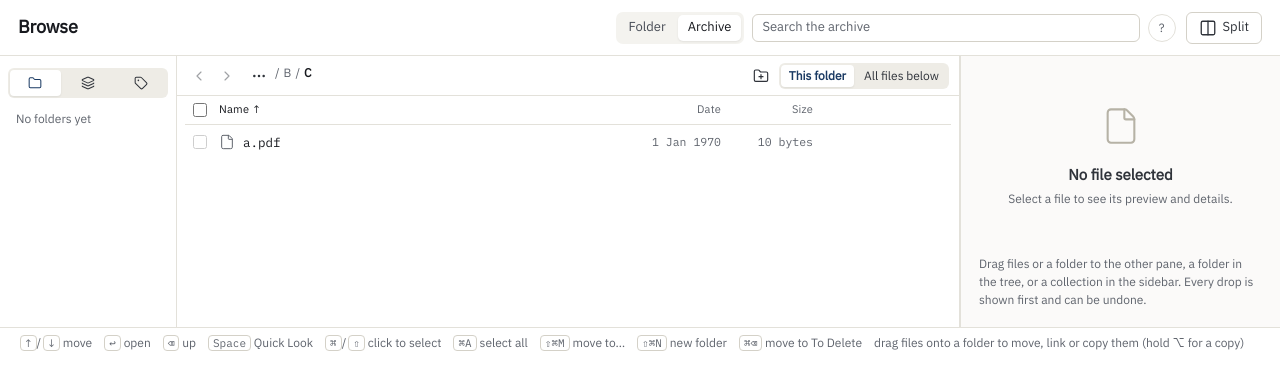
Scenario: Browse, a long path › folds the parents that do not fit into one menu that names them and goes there
The width and height of the screenshot is (1280, 368).
Expected: the text "a.pdf" is shown, [243,133,280,151]
Expected: the link "B" is shown, [284,64,291,88]
Click the button named "Parent folders". click: (259, 76)
box: [247,64,271,88]
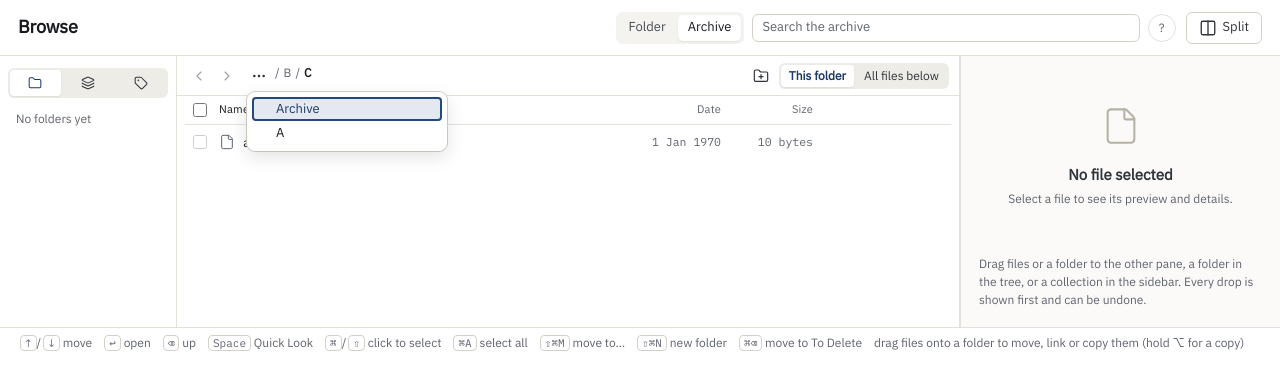
Expected: the menu items read "Archive", "A", in this order
Click the menu item "A". click: (347, 134)
box: [252,121,442,146]
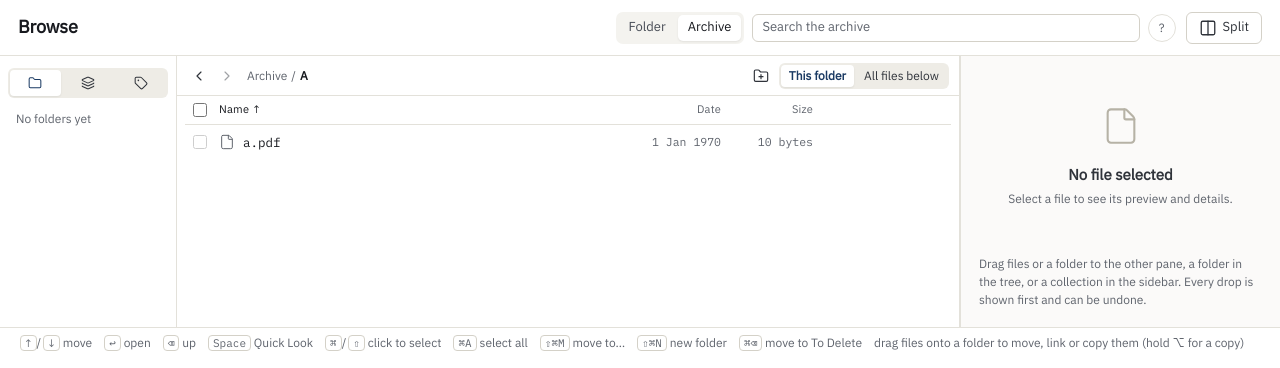
Expected: the text "A" is shown, [300,67,308,84]
